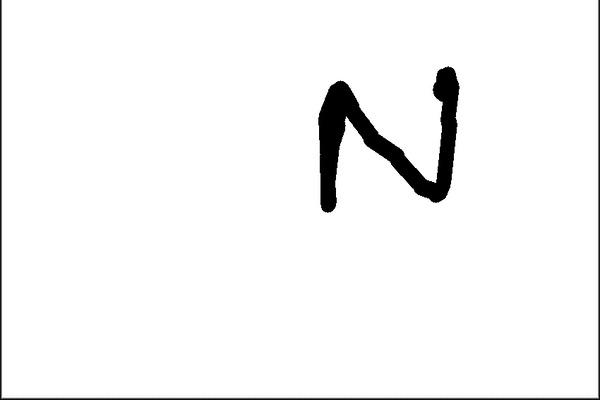N: (313, 61, 463, 217)
